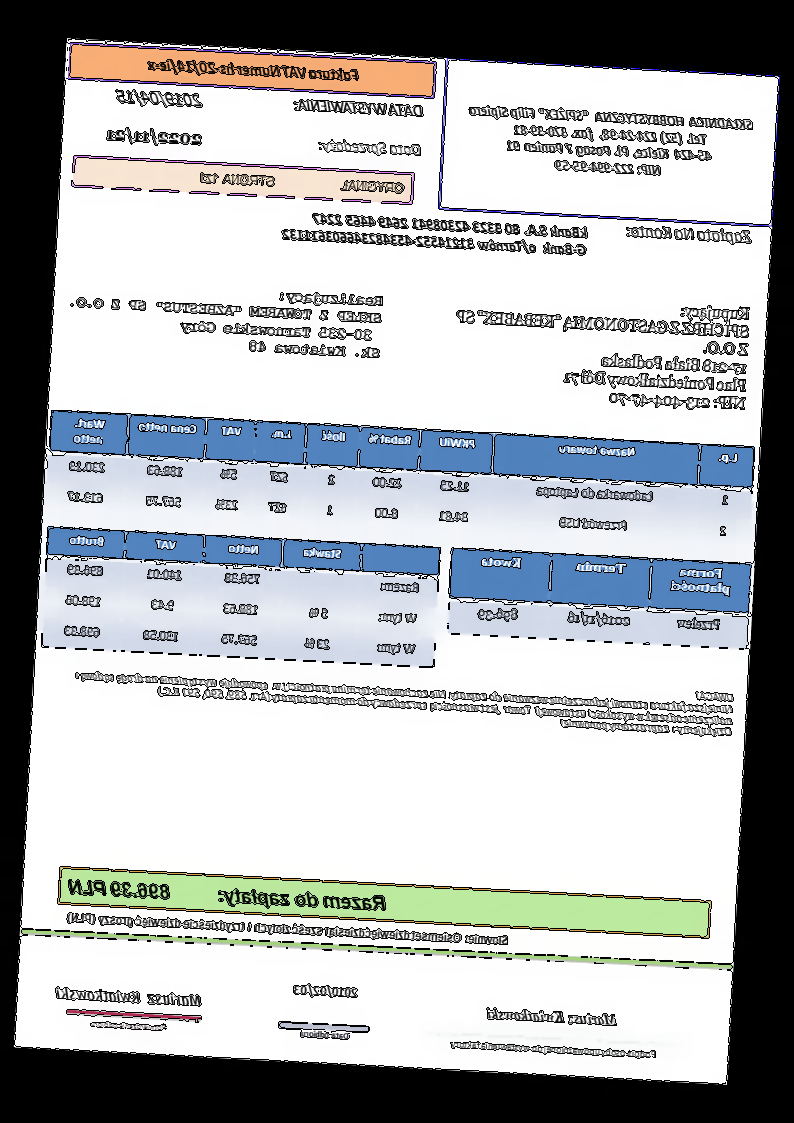Table: (43, 408, 757, 553), (42, 524, 442, 669), (447, 546, 753, 651)
TextBox: (70, 654, 737, 740), (447, 286, 756, 414), (68, 275, 388, 363), (465, 101, 755, 182), (62, 907, 511, 951), (279, 207, 591, 258), (64, 873, 390, 917), (147, 55, 362, 85), (448, 1034, 660, 1064), (196, 168, 407, 197), (50, 984, 204, 1011), (484, 1002, 620, 1030), (292, 94, 426, 119), (623, 221, 757, 246), (316, 134, 425, 160), (105, 125, 206, 152), (114, 86, 206, 110), (88, 1015, 169, 1037), (292, 980, 361, 1003), (298, 1026, 353, 1042)
